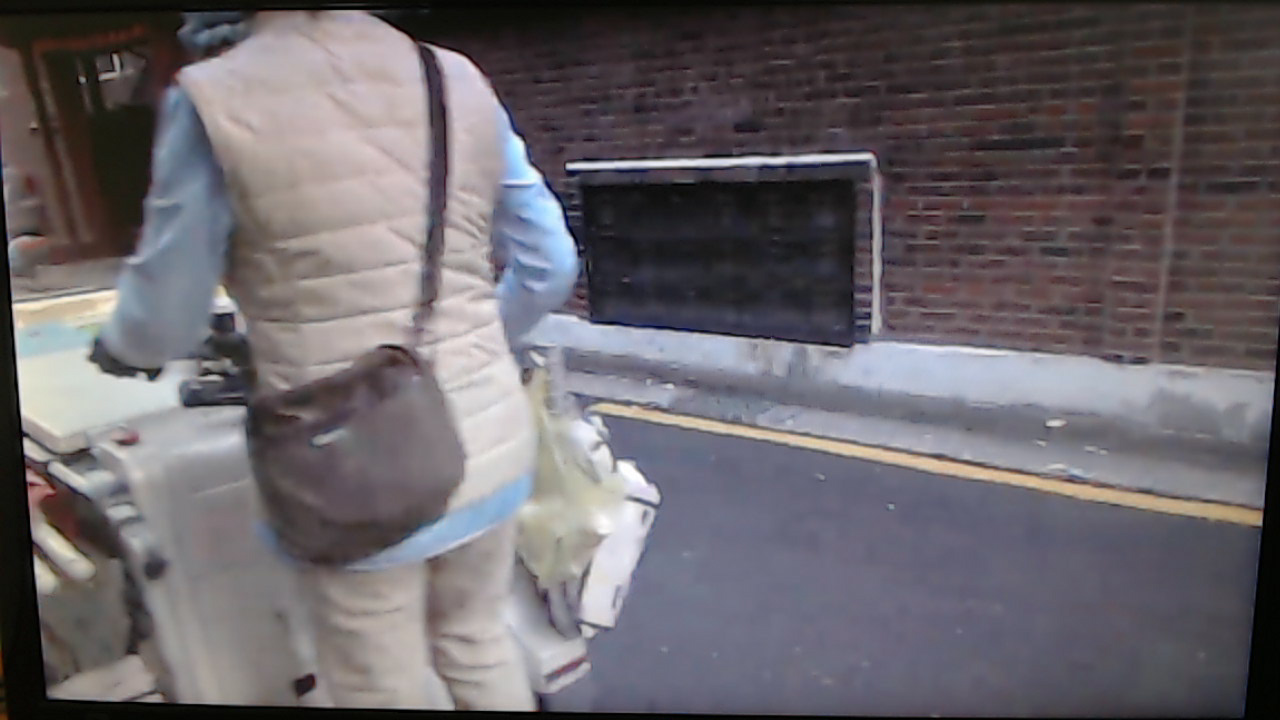Yakurut: (92, 17, 595, 716)
